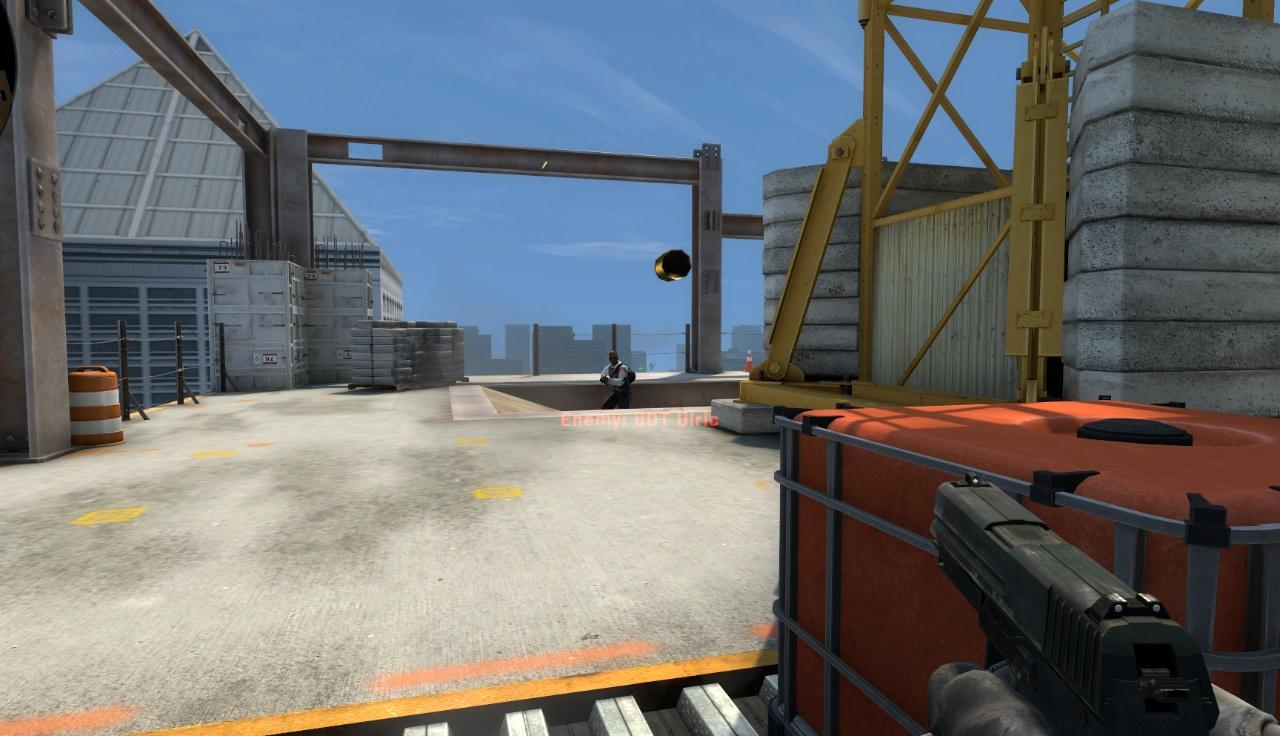pistol: (926, 468, 1221, 733)
tt: (599, 352, 634, 410)
tthead: (608, 351, 619, 365)
